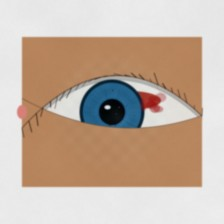hemorrhage_spot: (85, 65, 173, 136)
